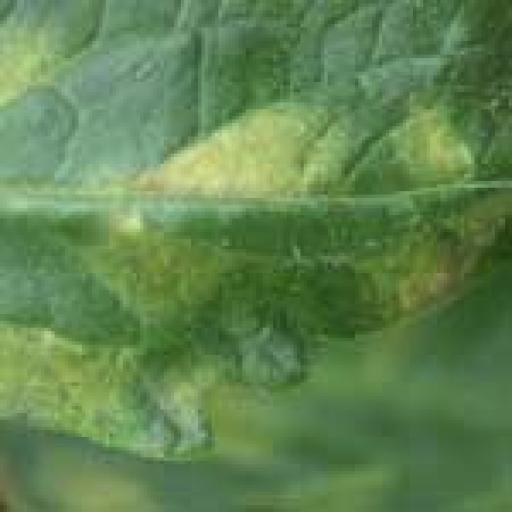disease_tomato: (4, 4, 512, 474)
